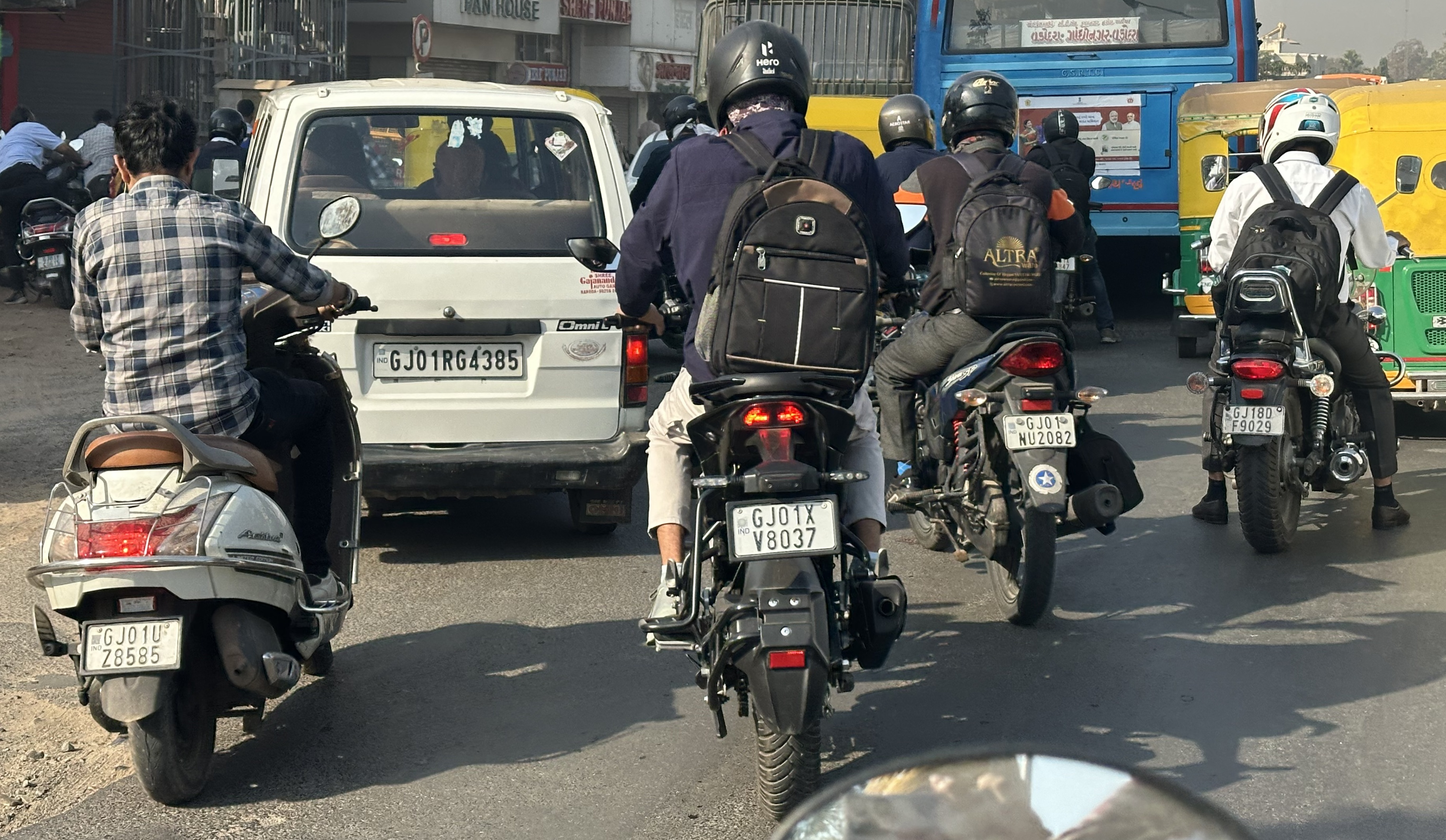BikeWithRider: (578, 14, 932, 830), (19, 74, 390, 825), (864, 59, 1157, 640), (1172, 74, 1425, 572), (1015, 93, 1129, 351)
Helmet: (694, 13, 818, 141), (100, 86, 217, 200), (1243, 79, 1352, 183), (936, 64, 1031, 154), (870, 85, 939, 160), (1032, 99, 1089, 146)
